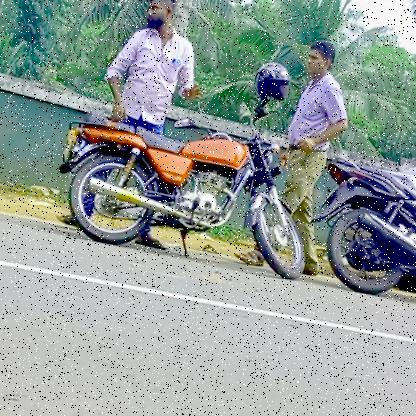motorcycle: (43, 54, 317, 289), (307, 126, 416, 337)
